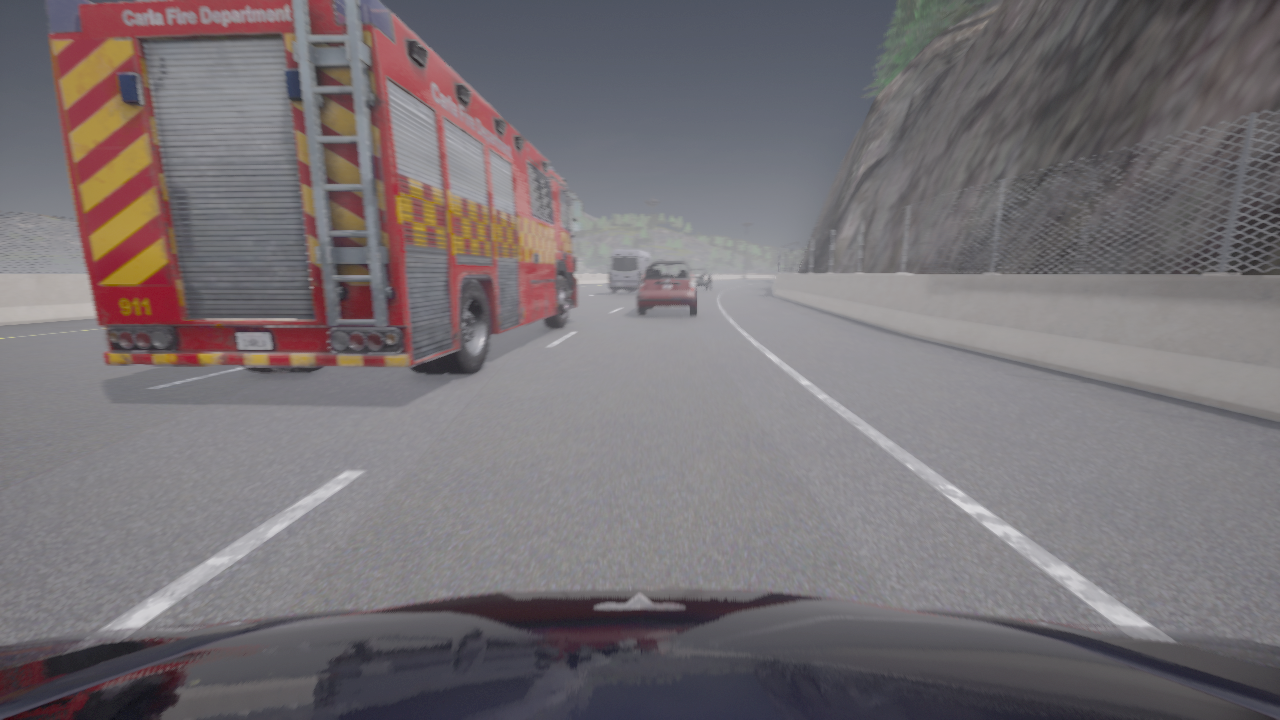cyclist: (46, 0, 583, 374), (0, 588, 1279, 719), (637, 260, 699, 316), (609, 249, 652, 293), (691, 268, 713, 290)
